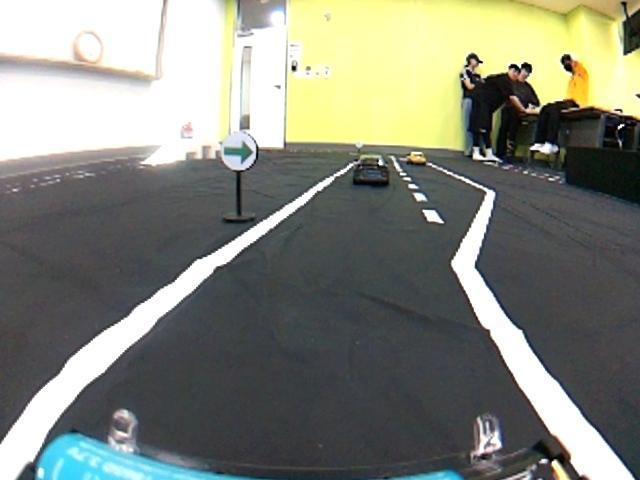car: (354, 151, 391, 184), (405, 150, 426, 163)
sign_right: (218, 130, 263, 175)
straight: (8, 232, 640, 479)
